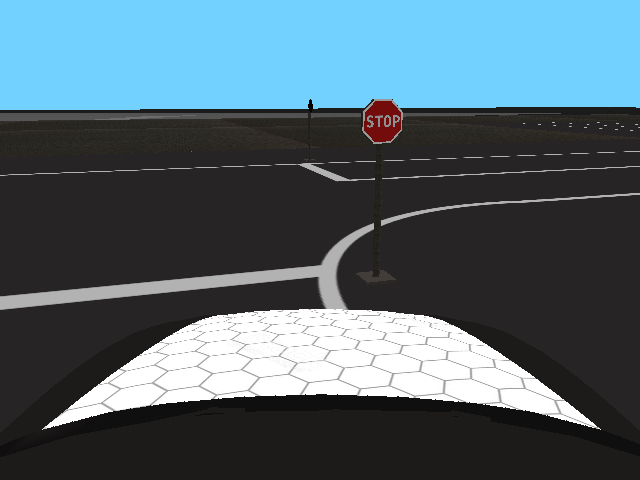stop: (361, 99, 403, 145)
